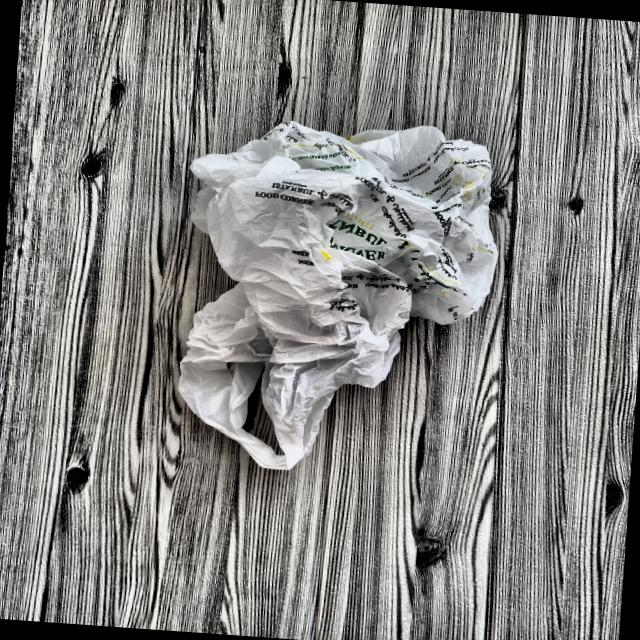plastic bag: (128, 91, 535, 506)
